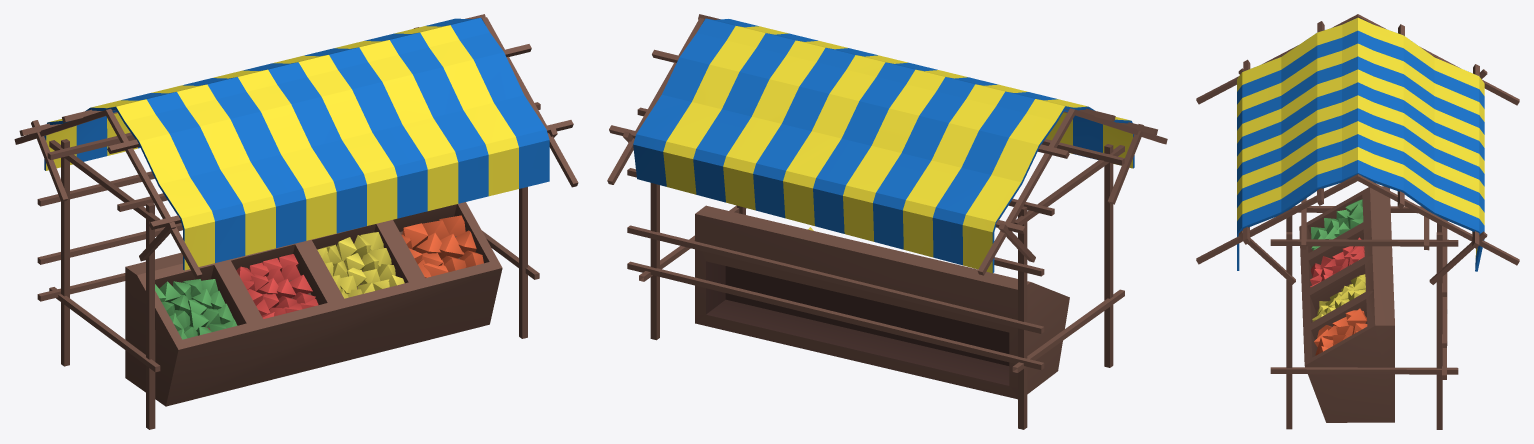
The model's file is village_stall_001.glb.
3 renders of one model, left to right at view 1: azimuth 30°, elevation 25°; view 2: azimuth 150°, elevation 25°; view 3: azimuth 270°, elevation 25°, orthographic. The views are drawn at different scales.
Visible parts, largest first — view 1: props_052; view 2: props_052; view 3: props_052.
Boxes of the visible parts, x1=… form: props_052: x1=14, y1=14, x2=578, y2=429; props_052: x1=607, y1=14, x2=1167, y2=429; props_052: x1=1196, y1=14, x2=1519, y2=429.
Bounding box in the file's own units: 8.62 × 5.68 × 6.56.
Materials: 1 (1 with a texture image).
